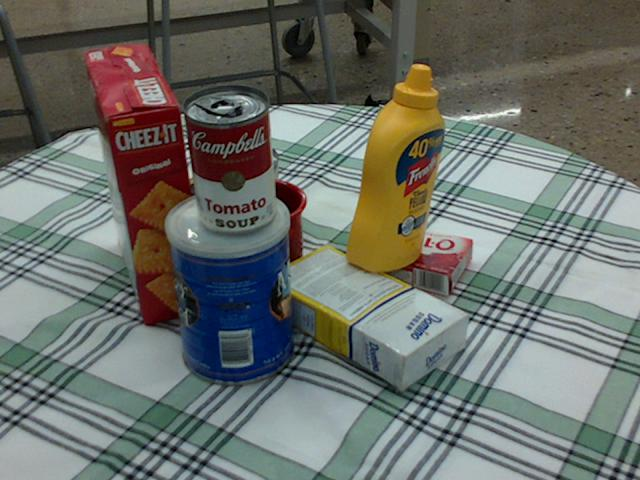cracker_box: (82, 46, 206, 323)
gelatin_box: (365, 223, 471, 297)
master_chef_can: (163, 188, 295, 386)
mug: (196, 178, 305, 287)
mustard_bottle: (346, 64, 443, 271)
potted_meat_can: (171, 158, 289, 247)
sugar_box: (262, 244, 470, 386)
tomato_soup_can: (181, 83, 274, 232)
tuna_fish_can: (197, 139, 278, 204)
